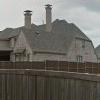Chimney: (20, 1, 56, 31)
